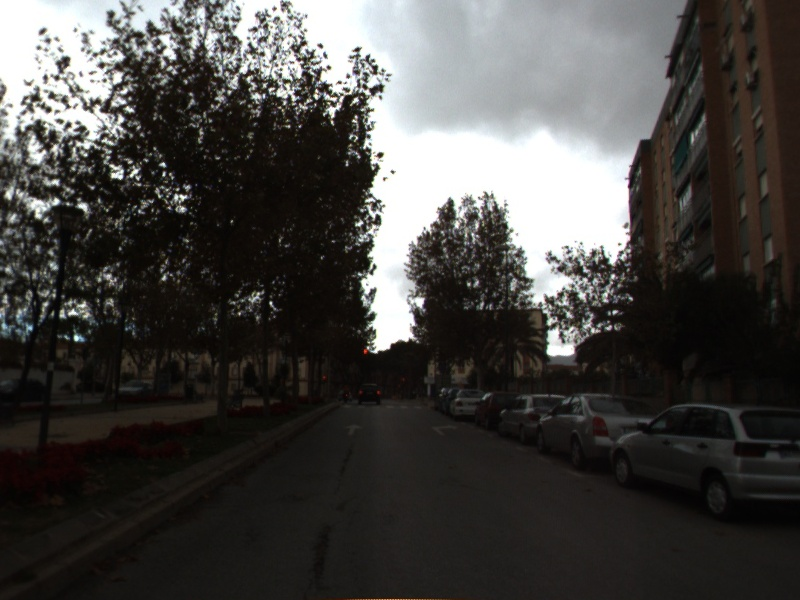RIGHT: (429, 422, 461, 438)
STRAIGHT: (341, 421, 366, 438)
